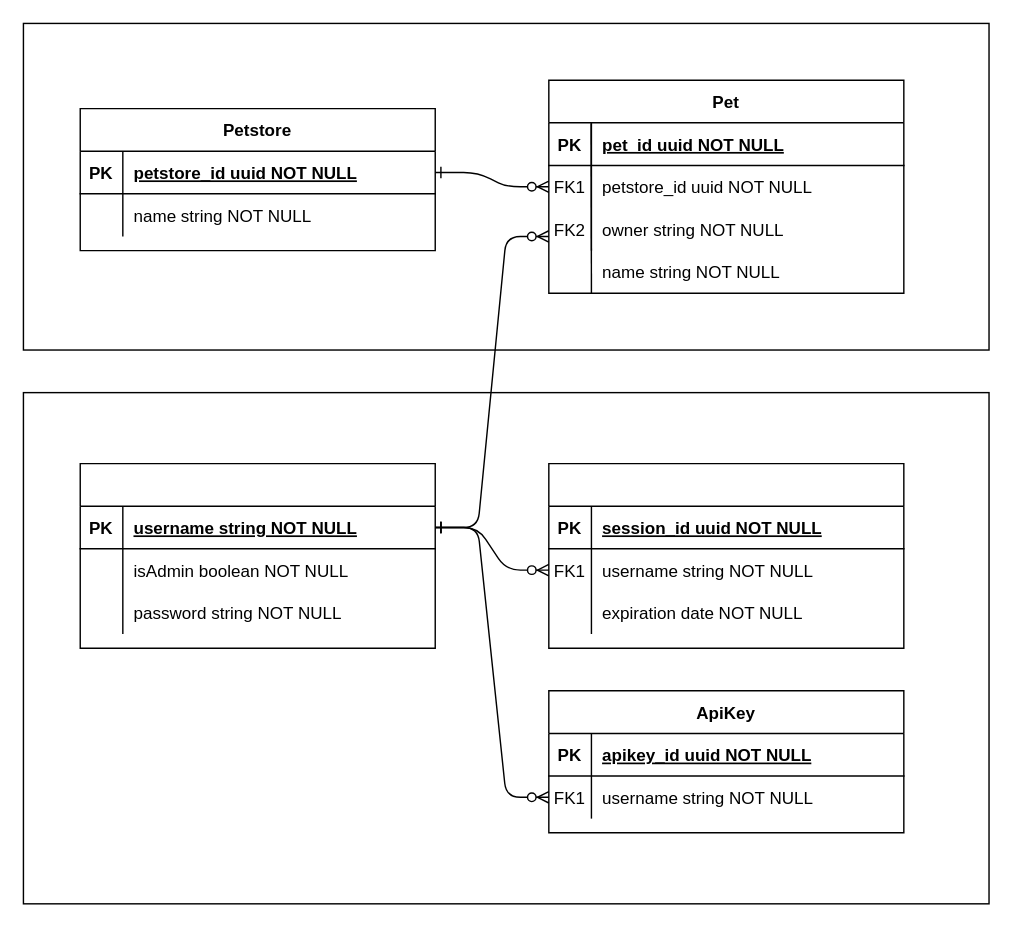
Some shapes in this 1012 by 927 pixel diagram are drawn without their labels. The shapes that lost their labels are listed below. From the top down, each one's box as (x1, y1, x2, y2) in pixels, then its label:
(79, 462, 435, 648): Users
(547, 462, 904, 648): Sessions
